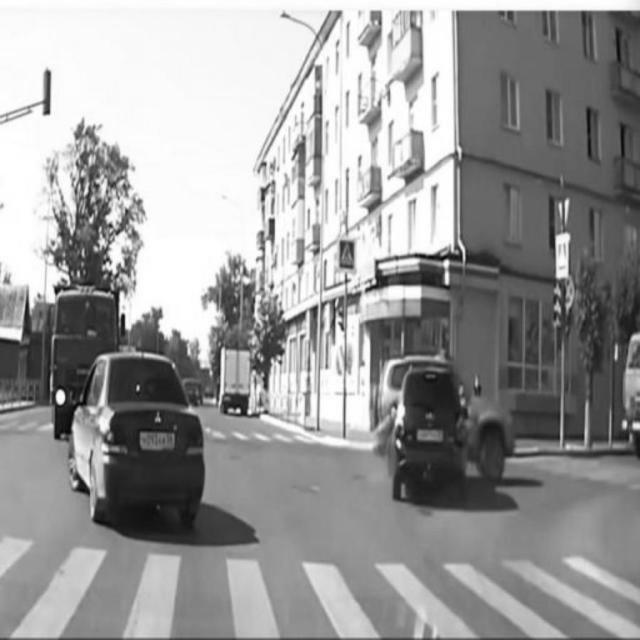accident: (382, 355, 516, 499)
vehicle: (71, 360, 215, 534), (46, 282, 120, 430), (215, 345, 255, 418)
